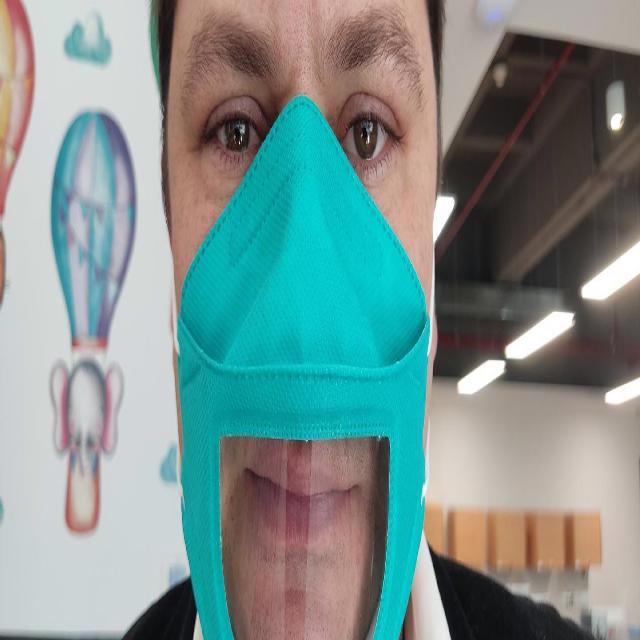adult: (129, 0, 453, 640)
